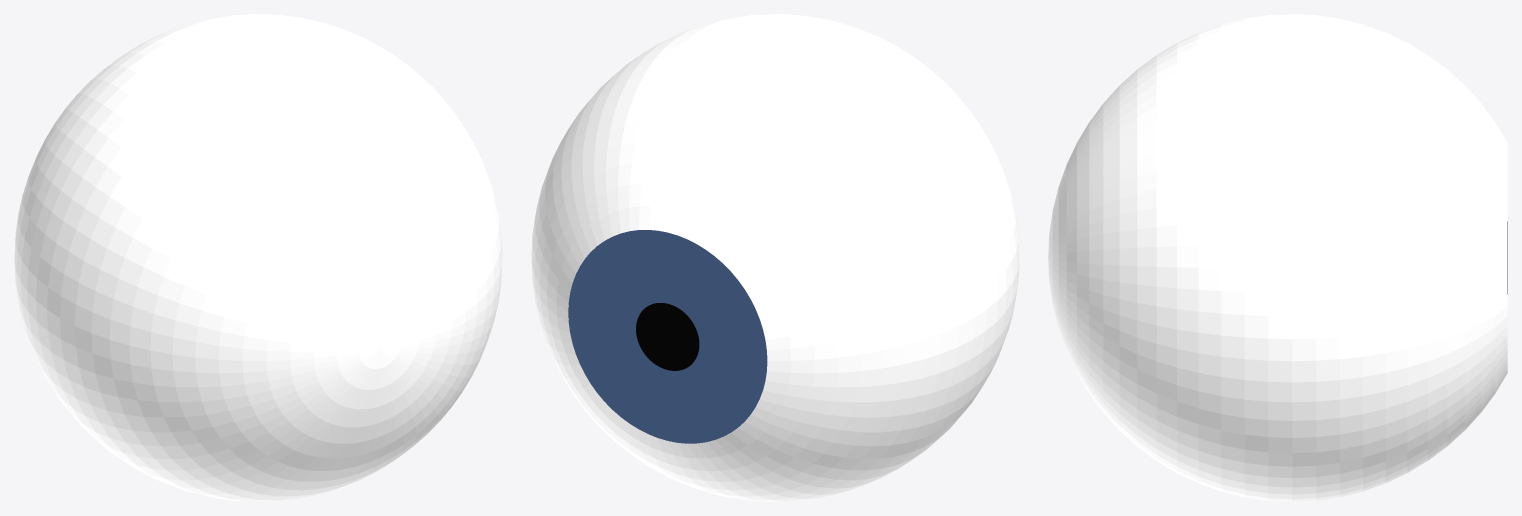
Rendered from unit_eye.gltf.
The picture shows the model from 3 angles, left to right: view 1: azimuth 30°, elevation 25°; view 2: azimuth 150°, elevation 25°; view 3: azimuth 270°, elevation 25°; orthographic projection.
Visible parts, largest first — view 1: Globe; view 2: Globe, Iris, Pupil; view 3: Globe.
Part boxes in pixels (x1,y1,x2,y2): Globe: [14, 14, 502, 501]; Globe: [531, 14, 1019, 501]; Iris: [568, 230, 767, 443]; Pupil: [636, 303, 699, 370]; Globe: [1048, 14, 1507, 501].
Bounding box in the file's own units: 2 × 2 × 1.88.
